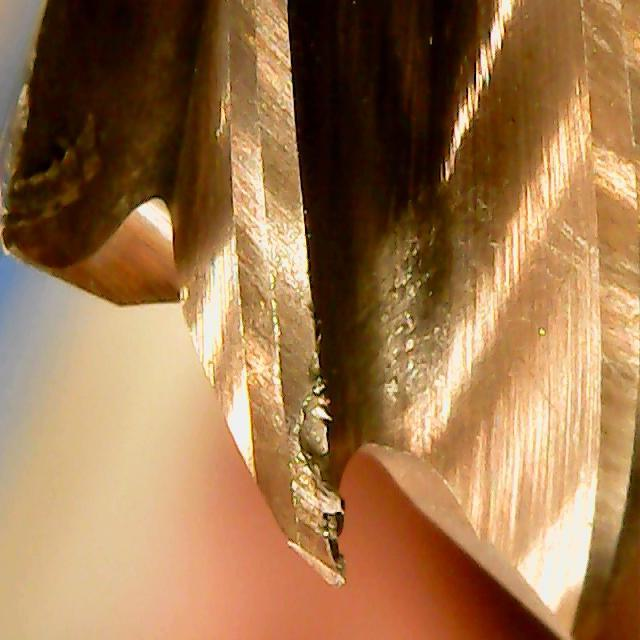Tool-wear-class-2: (224, 379, 366, 588)
